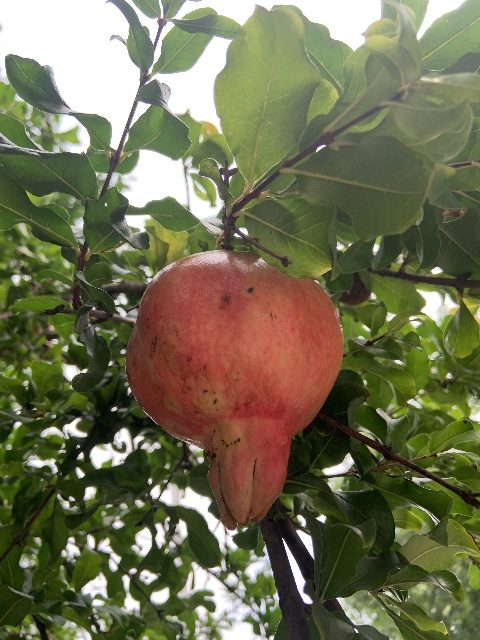ripe: (126, 250, 344, 530)
